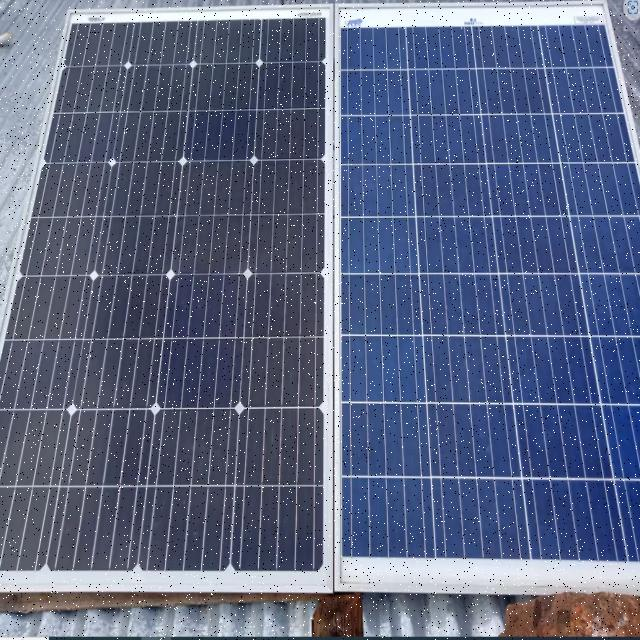clean: (5, 20, 327, 569), (345, 16, 640, 565)
